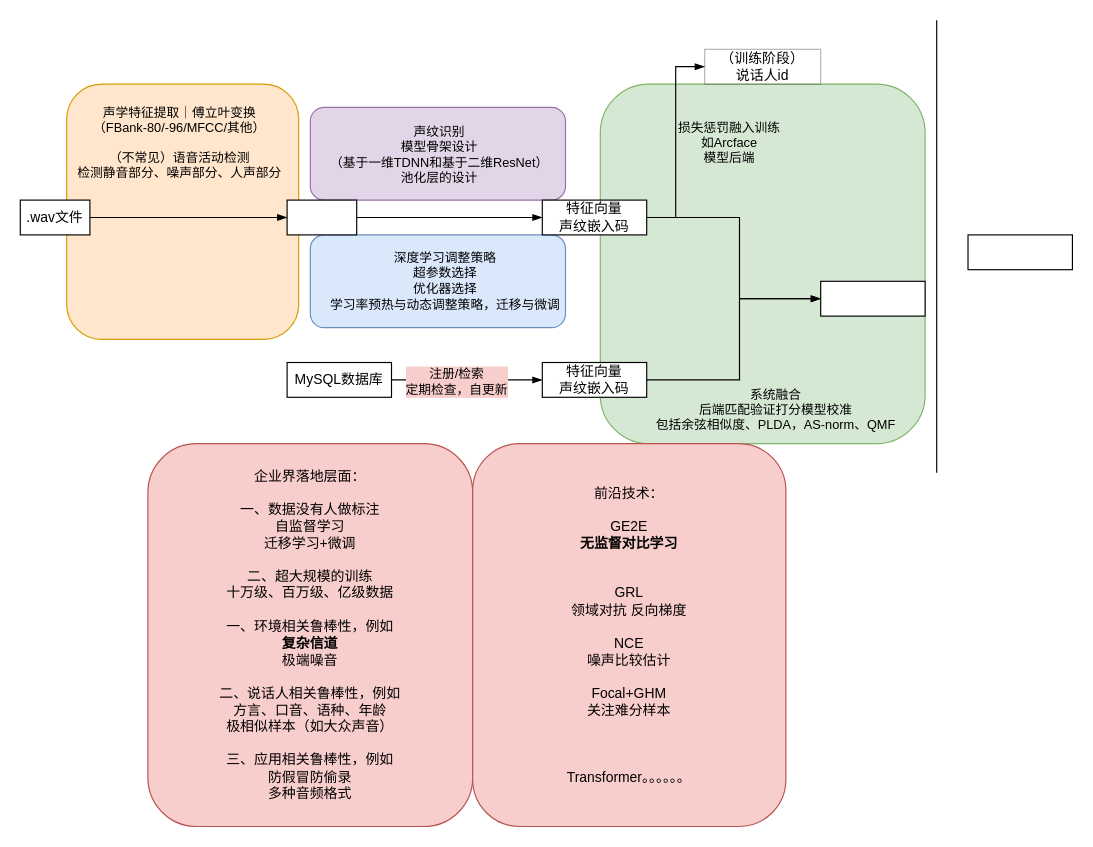
Some shapes in this 1093 by 847 pixel diagram are drawn without their labels. The centre of each missing label's shape, as x and y in pixels:
"数据增强、说话人扩增 （噪声、混响、变速、SpecAug等）" belongs at (182,211).
"时频谱" belongs at (321,217).
"相似度" belongs at (872,298).
"评价指标" belongs at (1019,252).
